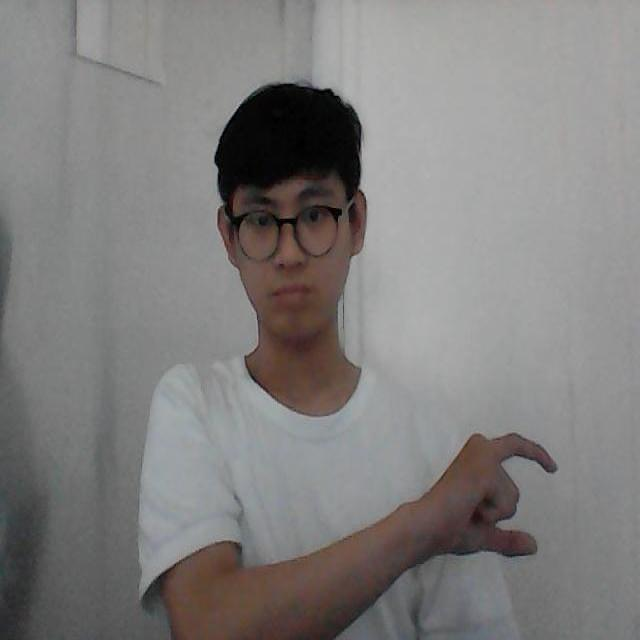C: (448, 432, 560, 566)
